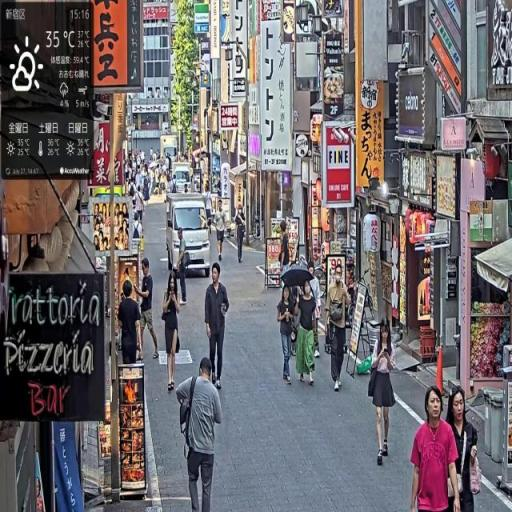person: (177, 356, 225, 512), (410, 387, 463, 512), (368, 314, 399, 464), (446, 388, 482, 511), (326, 264, 354, 395), (205, 263, 231, 396), (136, 258, 162, 363), (295, 280, 320, 388), (161, 274, 182, 394), (117, 280, 145, 366), (277, 285, 300, 385), (216, 200, 229, 262), (236, 199, 248, 266), (203, 184, 215, 234)
